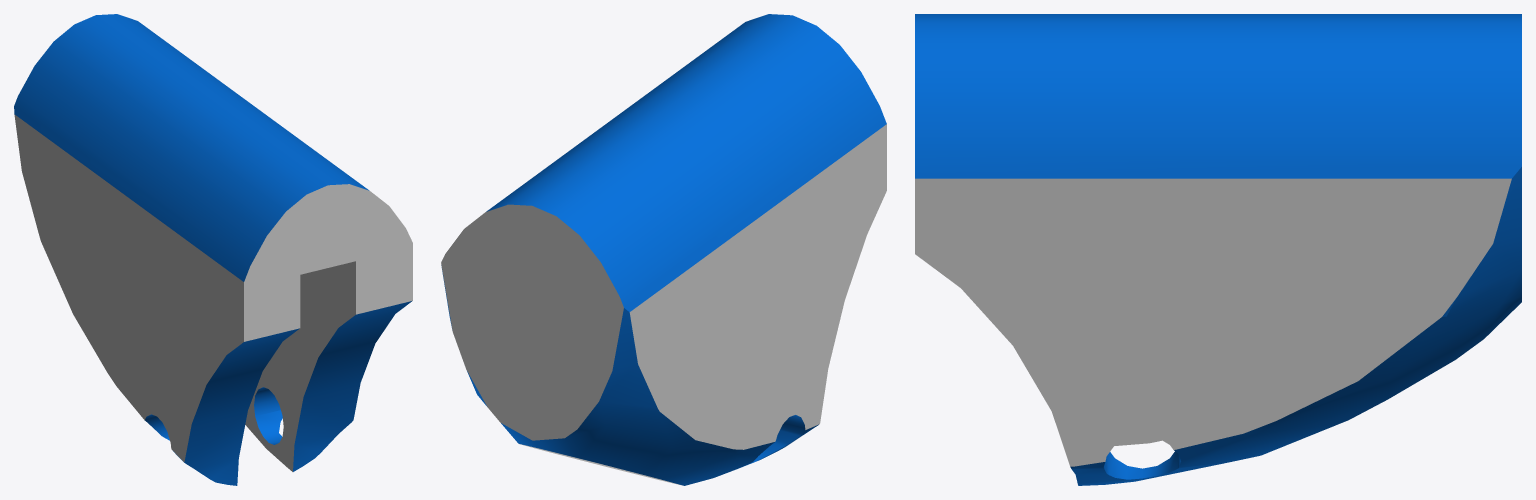
File: anthro-thumb.glb
The picture shows the model from 3 angles, left to right: view 1: azimuth 30°, elevation 25°; view 2: azimuth 150°, elevation 25°; view 3: azimuth 270°, elevation 25°; orthographic projection. The views are drawn at different scales.
Visible parts, largest first — view 1: Thumb; view 2: Thumb; view 3: Thumb.
Part boxes in pixels (x1,y1,x2,y2): Thumb: (14, 14, 412, 485); Thumb: (441, 14, 886, 485); Thumb: (915, 14, 1521, 485).
Size of the model in its own units: 0.23 by 0.4425 by 0.548.
